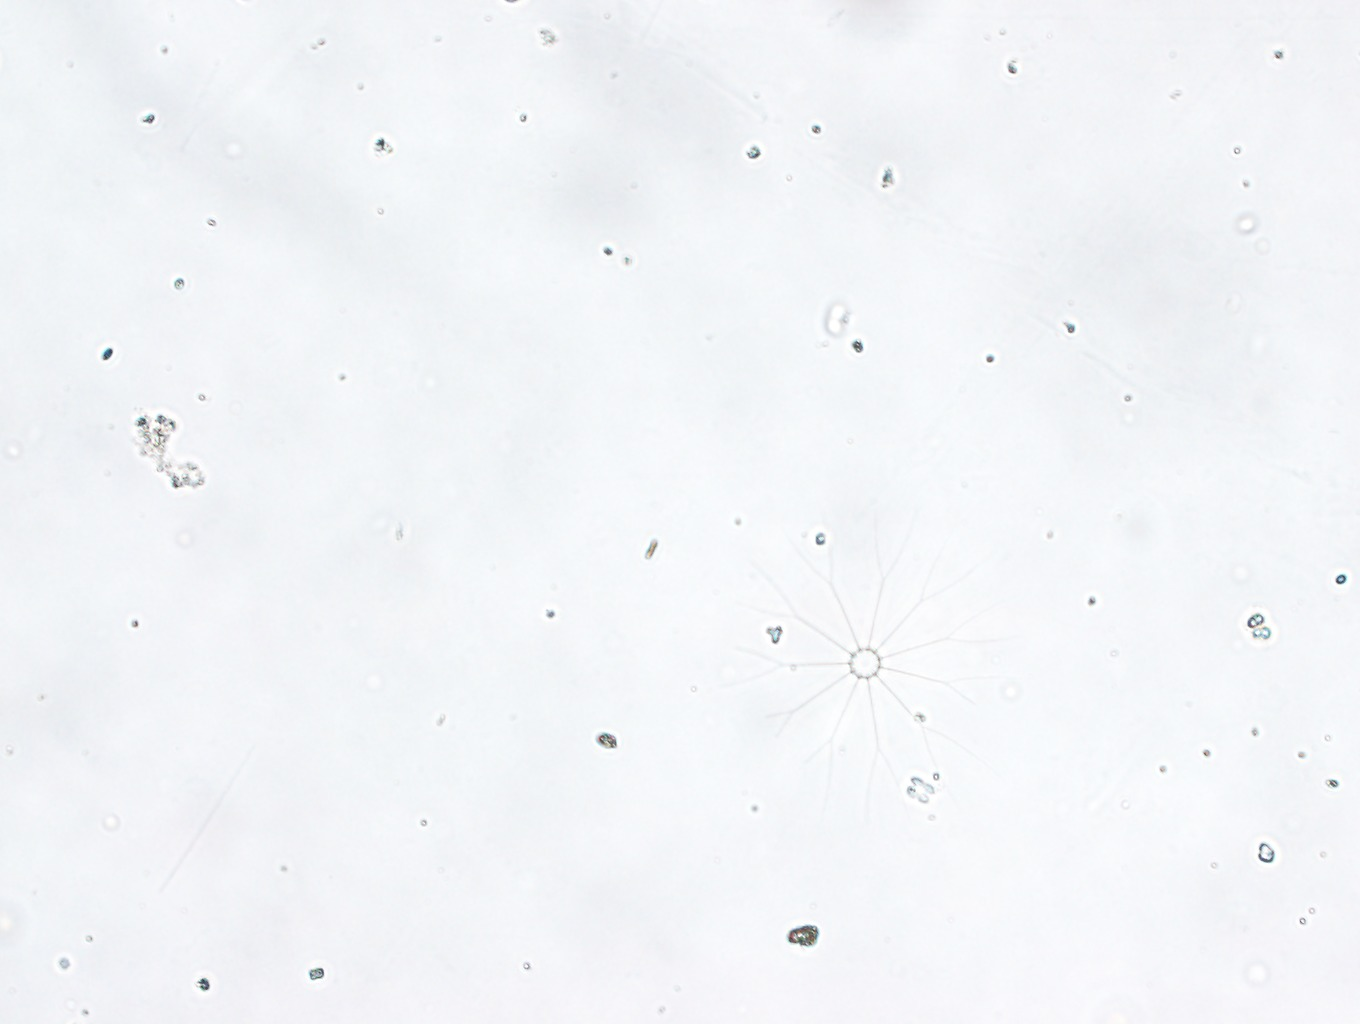bacteriastrum: (714, 515, 1012, 823)
